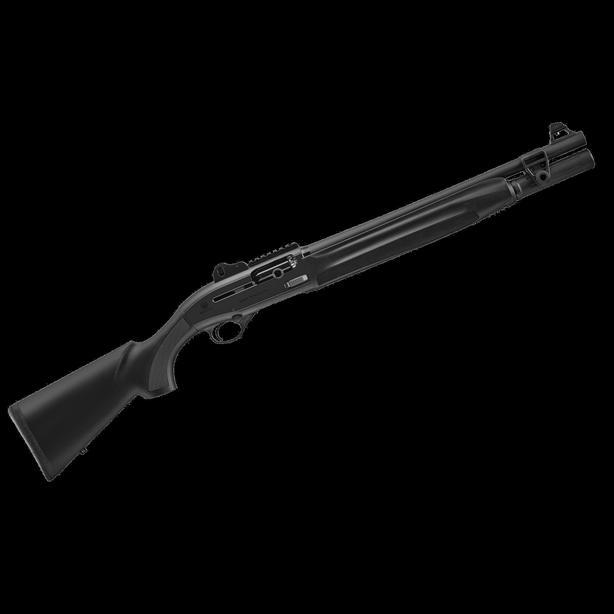Firearm: (0, 109, 614, 492)
